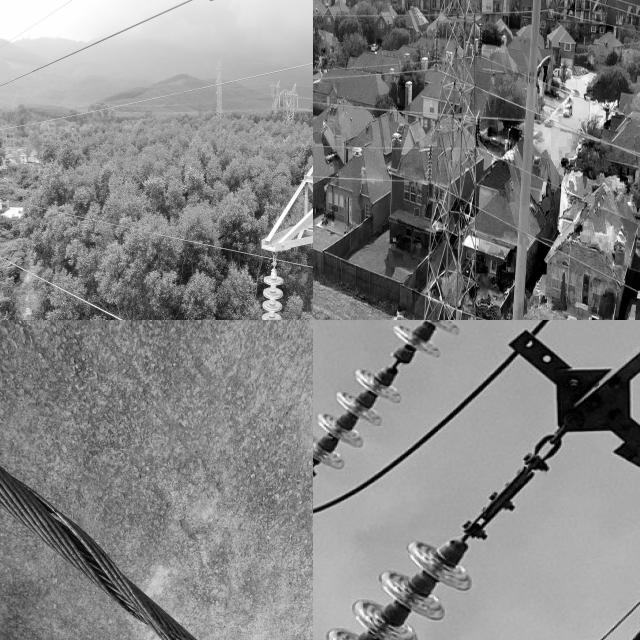杆塔: (406, 0, 483, 320), (279, 81, 299, 126), (215, 58, 225, 120), (268, 79, 281, 113)
正常绝缘子: (313, 451, 564, 640), (313, 320, 471, 497), (258, 255, 284, 320), (425, 134, 434, 198), (433, 20, 440, 70), (477, 20, 484, 59), (475, 113, 482, 151)
电缆破损: (182, 420, 313, 585)
绝缘子破损: (373, 350, 417, 376)
